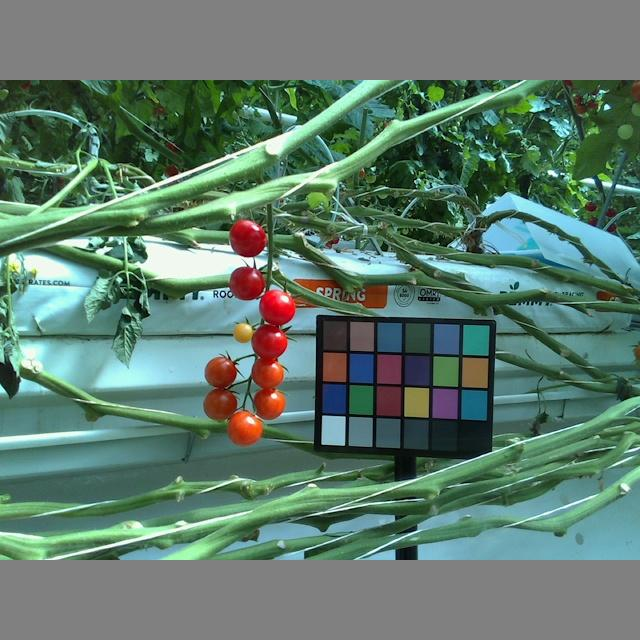green: (616, 123, 635, 140)
pink: (226, 409, 263, 447), (203, 385, 241, 421), (201, 353, 239, 389), (252, 388, 287, 419), (250, 359, 284, 389), (235, 319, 254, 342)
red: (228, 216, 267, 257), (249, 322, 289, 359), (256, 288, 295, 323), (229, 265, 266, 299)
